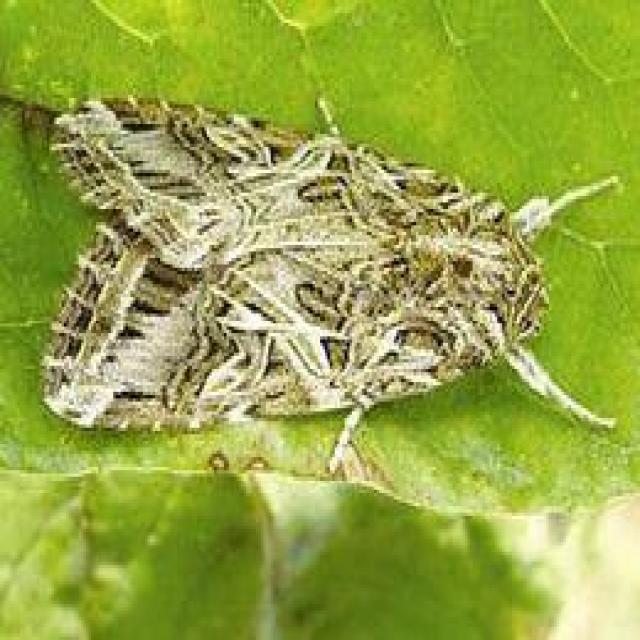BeetArmyWorm-Adult-: (24, 80, 599, 475)
